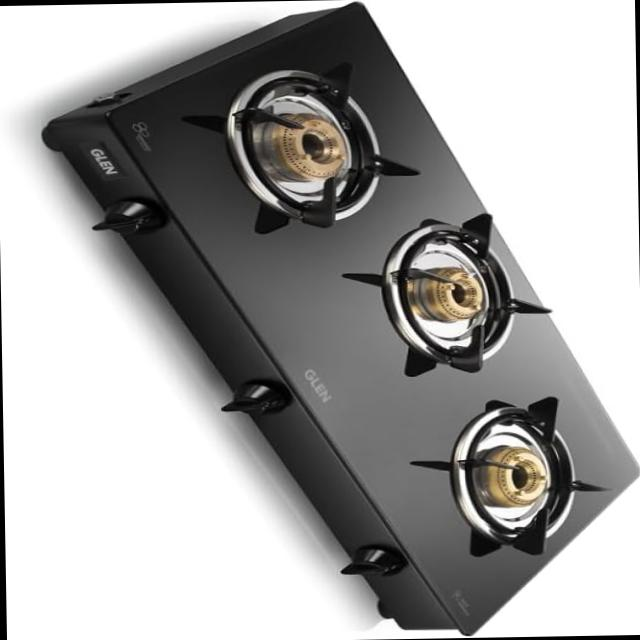knob_OFF: (189, 25, 401, 239), (429, 376, 613, 585), (380, 205, 562, 409)
